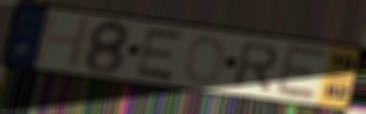8: (83, 19, 134, 77)
E: (273, 43, 330, 102), (132, 25, 189, 83)
H: (30, 12, 94, 70)
O: (182, 34, 228, 86)
R: (230, 41, 281, 92)
